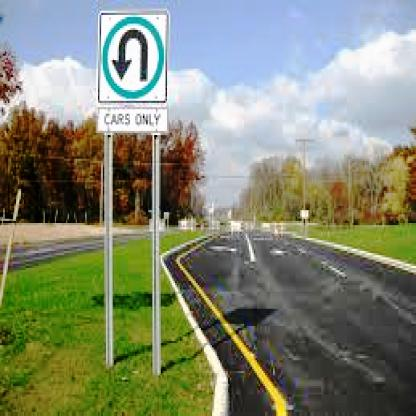U-turn: (98, 10, 166, 100)
